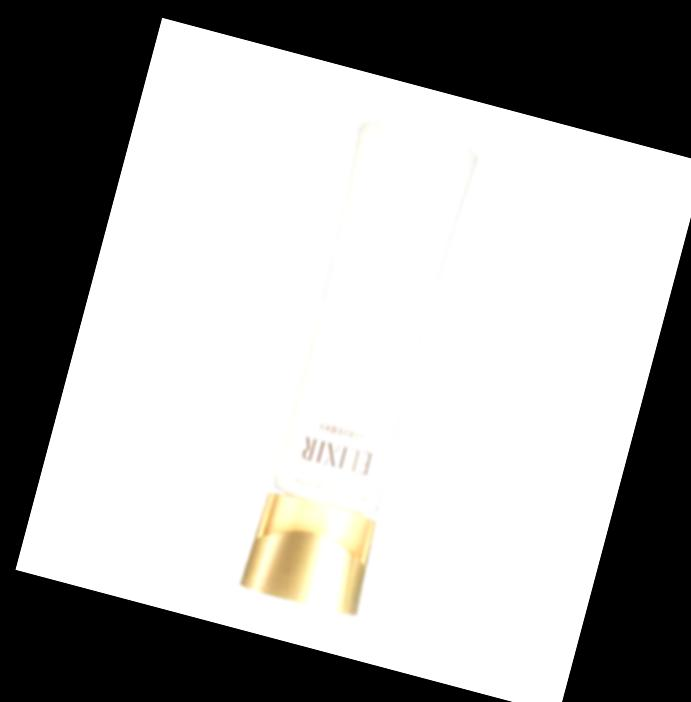cosmetic: (234, 115, 479, 619)
